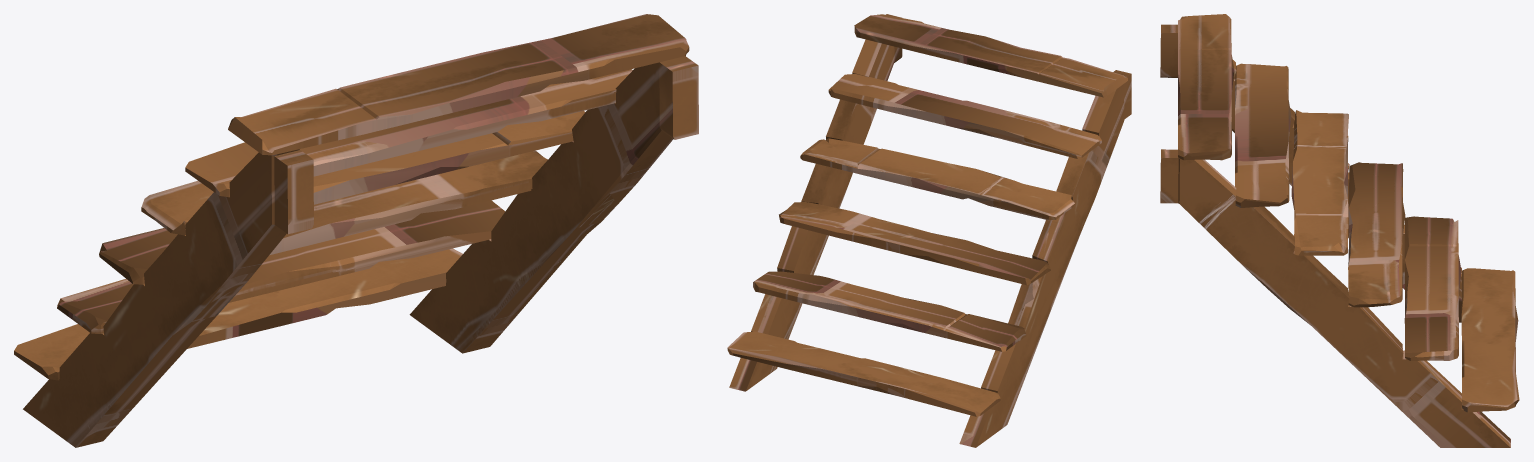
File: Foundation_Stairs.fbx
3 renders of one model, left to right at view 1: azimuth 30°, elevation 25°; view 2: azimuth 150°, elevation 25°; view 3: azimuth 270°, elevation 25°, orthographic. The views are drawn at different scales.
Parts seen in each view (by area): view 1: Foundation_Stairs; view 2: Foundation_Stairs; view 3: Foundation_Stairs.
Boxes of the visible parts, x1,y1,x2,y2 form: Foundation_Stairs: (14,14,698,447); Foundation_Stairs: (727,14,1131,447); Foundation_Stairs: (1160,14,1519,447).
Size of the model in its own units: 99.48 by 99.82 by 108.
